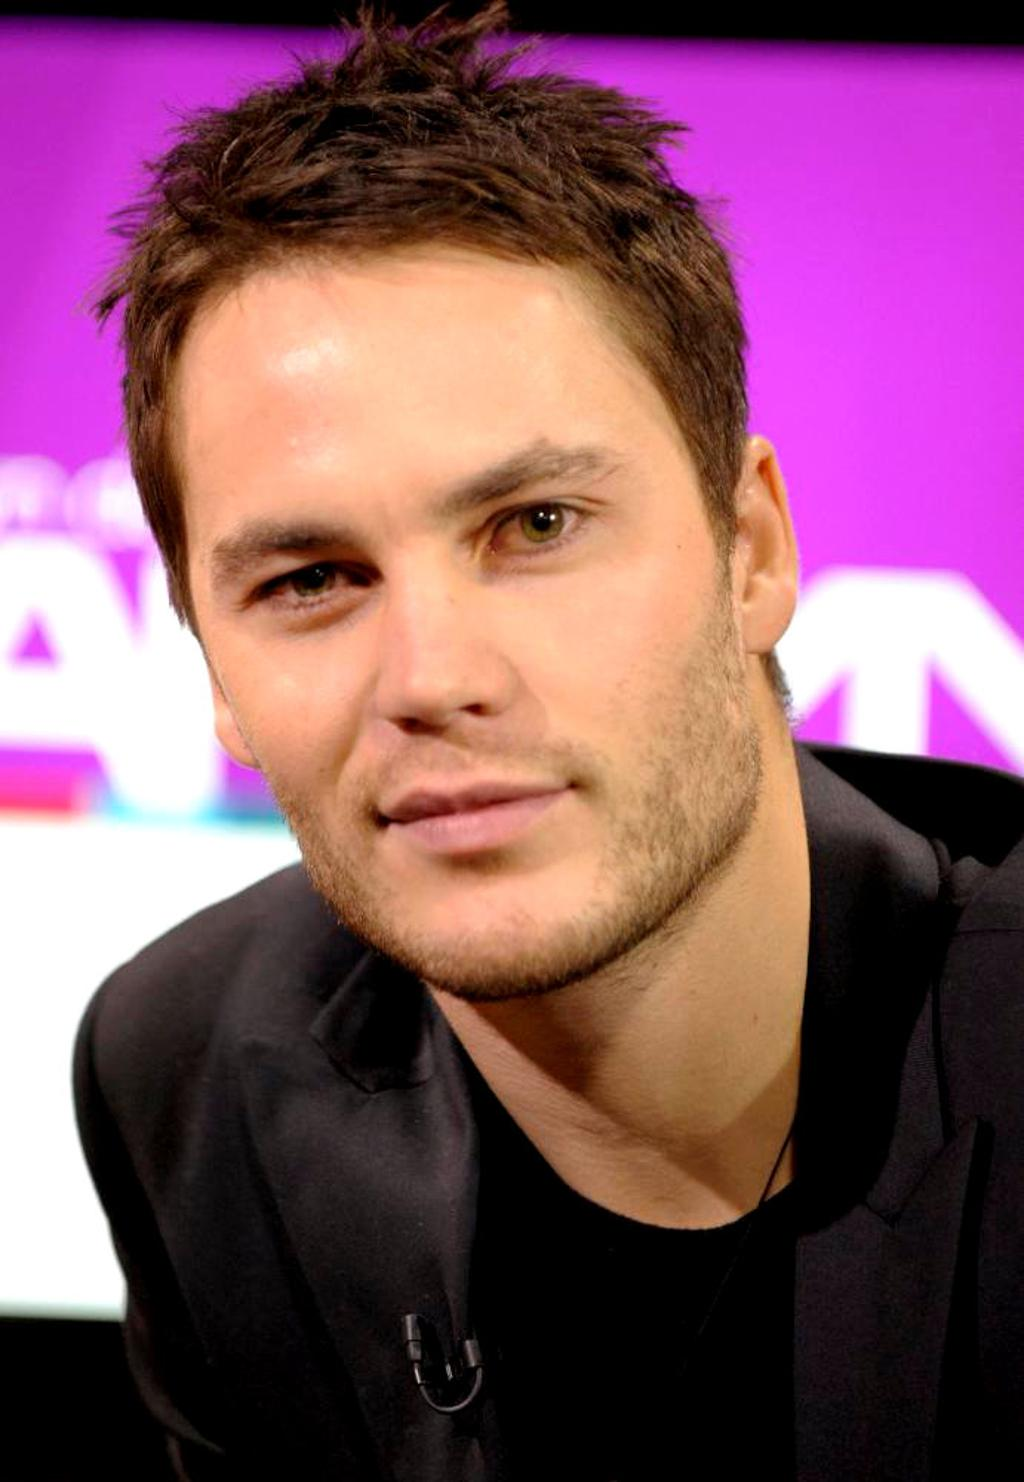face: (162, 289, 761, 992)
